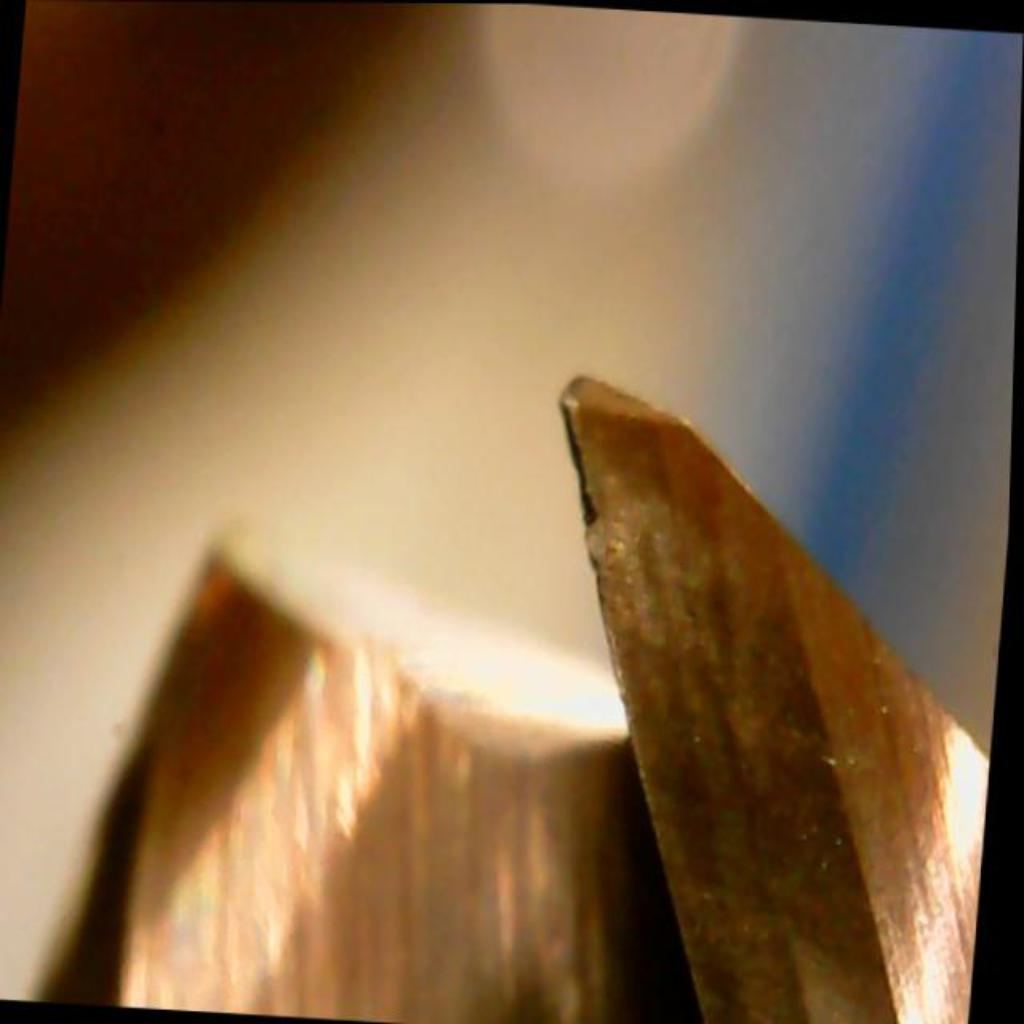Tool-wear-class-1: (503, 355, 789, 729)
